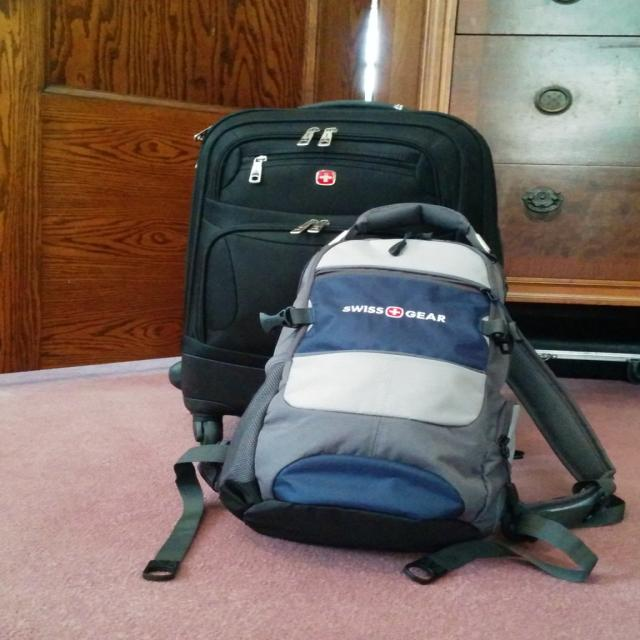backpack: (187, 200, 620, 575), (182, 100, 500, 439)
